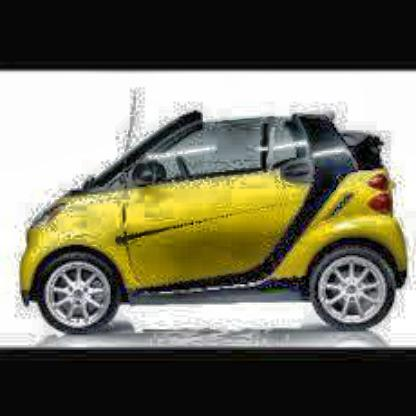smart fortwo Convertible 2012: (21, 93, 409, 338)
